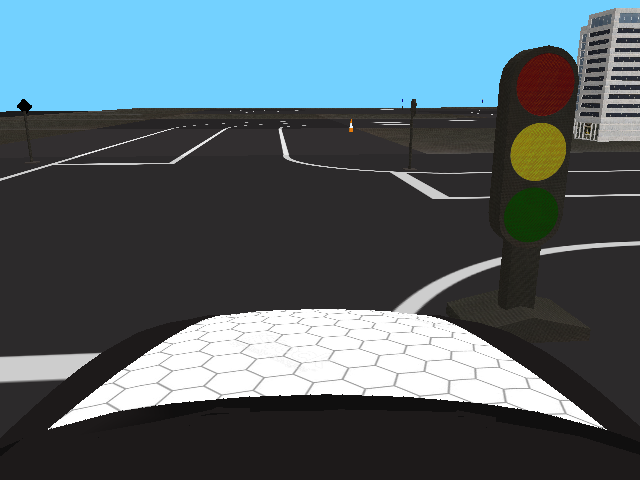yellow_light: (491, 45, 576, 248)
